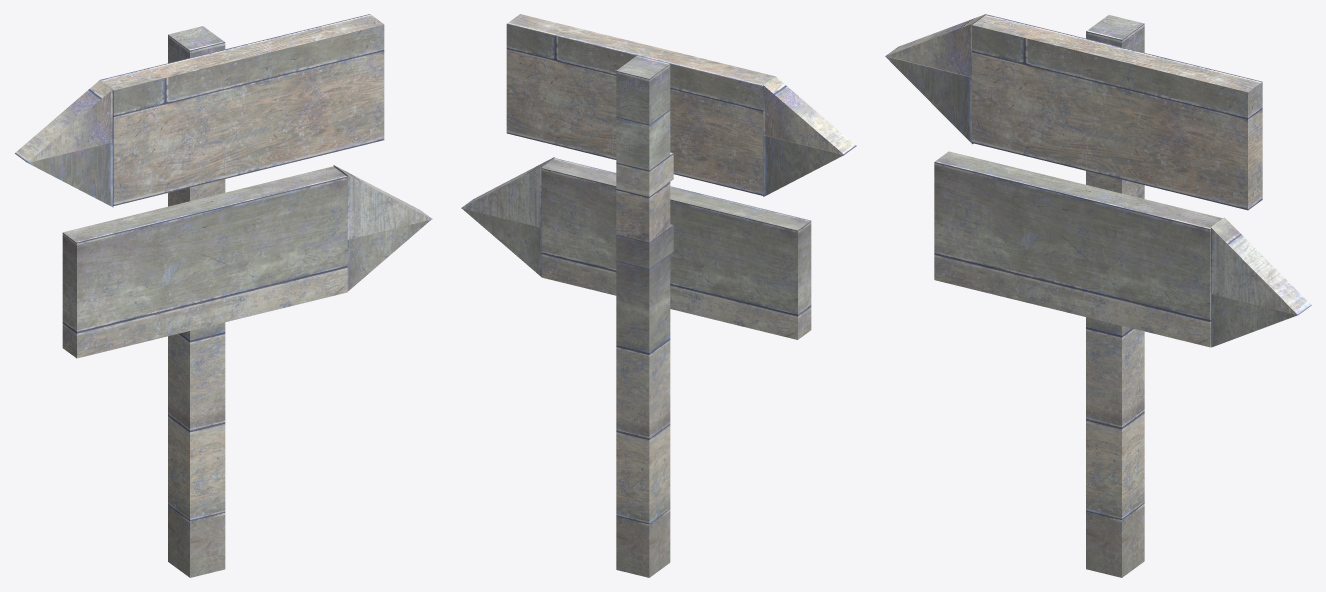
The model's file is doubleArrow.obj.
3 renders of one model, left to right at view 1: azimuth 30°, elevation 25°; view 2: azimuth 150°, elevation 25°; view 3: azimuth 330°, elevation 25°, orthographic. The views are drawn at different scales.
Visible parts, largest first — view 1: Part3, Part1, Union3, Wedge1, Wedge4, Wedge2, Wedge3, Part2, Union2; view 2: Part3, Part1, Union3, Wedge1, Part2, Wedge4, Wedge2, Union1, Union2, Wedge3, Weld2, Weld1; view 3: Part1, Part3, Union3, Wedge4, Wedge2, Wedge1, Wedge3, Part2, Union2.
Boxes of the visible parts, left/top/right/bottom form: Part3: left=62, top=166, right=347, bottom=358; Part1: left=100, top=14, right=384, bottom=205; Union3: left=168, top=322, right=225, bottom=577; Wedge1: left=15, top=80, right=112, bottom=162; Wedge4: left=333, top=165, right=432, bottom=239; Wedge2: left=27, top=142, right=113, bottom=207; Wedge3: left=347, top=219, right=430, bottom=291; Part2: left=168, top=26, right=225, bottom=63; Union2: left=168, top=179, right=225, bottom=206; Part3: left=541, top=158, right=811, bottom=339; Part1: left=506, top=14, right=774, bottom=195; Union3: left=616, top=254, right=670, bottom=577; Wedge1: left=763, top=76, right=856, bottom=154; Part2: left=616, top=55, right=670, bottom=124; Wedge4: left=461, top=157, right=554, bottom=227; Wedge2: left=763, top=135, right=856, bottom=196; Union1: left=616, top=110, right=670, bottom=170; Union2: left=616, top=182, right=670, bottom=242; Wedge3: left=462, top=208, right=541, bottom=276; Weld2: left=616, top=224, right=673, bottom=268; Weld1: left=616, top=152, right=673, bottom=196; Part1: left=972, top=14, right=1262, bottom=210; Part3: left=934, top=151, right=1222, bottom=347; Union3: left=1086, top=317, right=1144, bottom=577; Wedge4: left=1211, top=217, right=1311, bottom=315; Wedge2: left=885, top=55, right=973, bottom=144; Wedge1: left=886, top=14, right=985, bottom=77; Wedge3: left=1211, top=294, right=1297, bottom=347; Part2: left=1086, top=15, right=1144, bottom=52; Union2: left=1086, top=171, right=1144, bottom=198.
Bounding box in the file's own units: 4.73 × 5.88 × 0.8101.
Materials: 1 (1 with a texture image).
